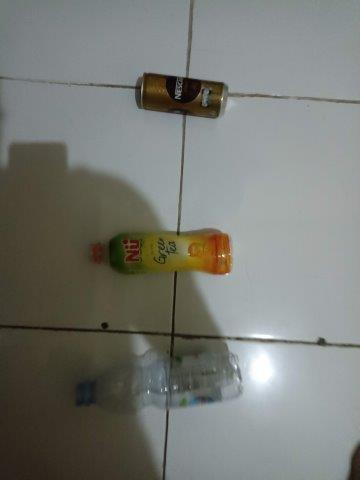botolplastik: (76, 352, 243, 412), (89, 233, 232, 276)
kaleng: (140, 72, 228, 118)
